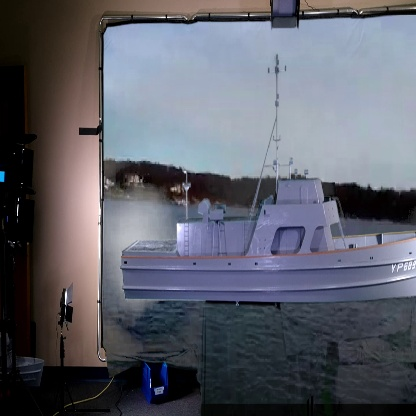YP689: (117, 52, 416, 301)
